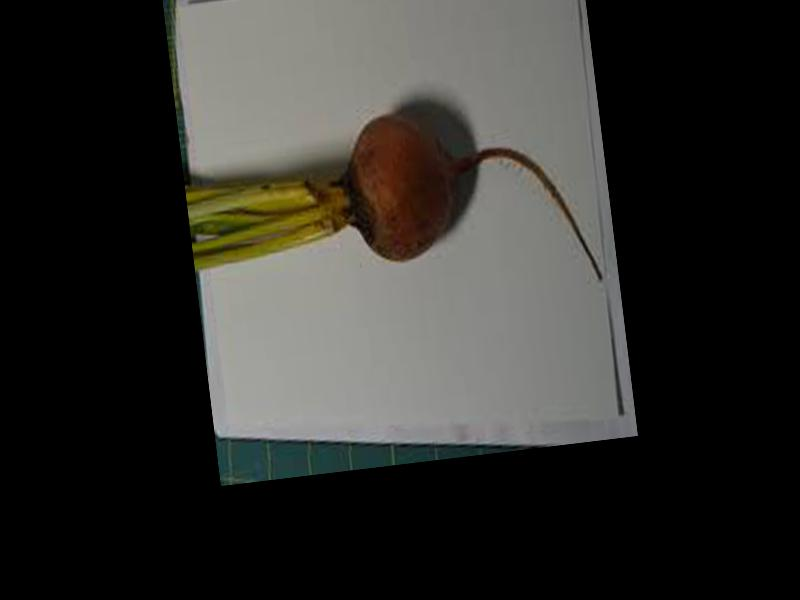Beet: (183, 92, 602, 326)
